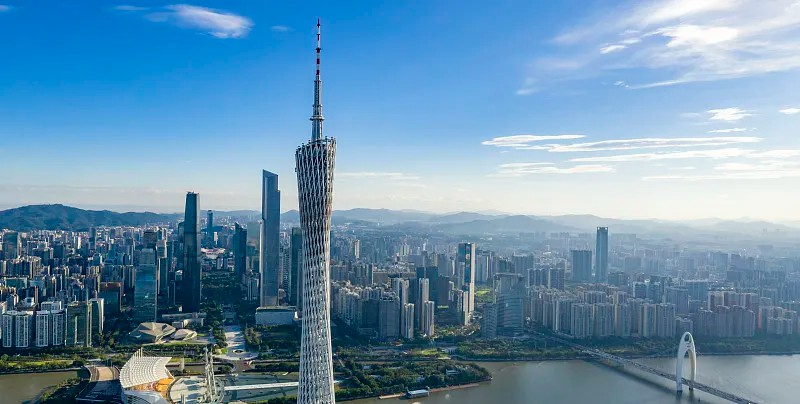Canton: (293, 18, 343, 404)
